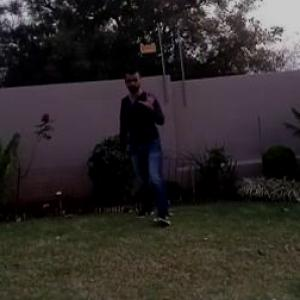follow_hand: (136, 82, 160, 112)
